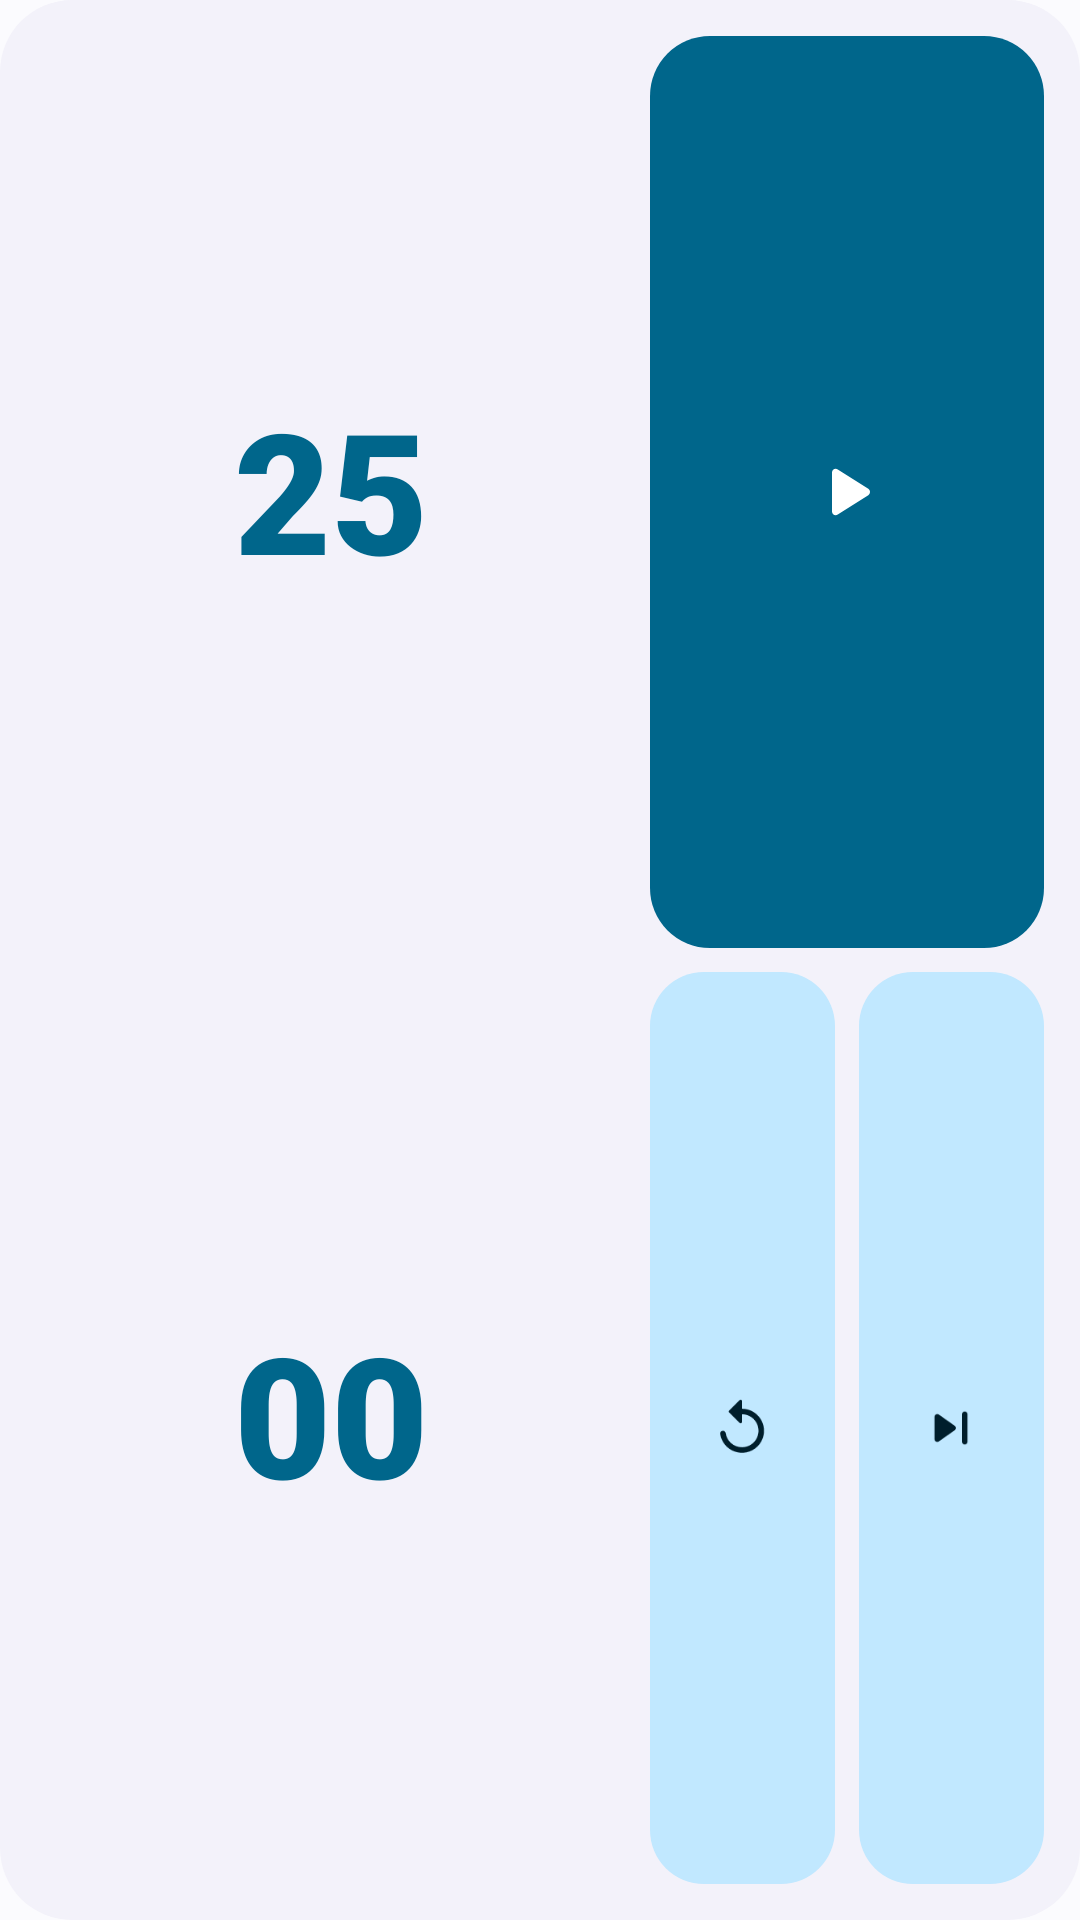

Icon click points for this 1080x1920 phone screenshot, format point (x, y):
play: point (851, 492)
reset: point (742, 1426)
skip: point (951, 1428)
